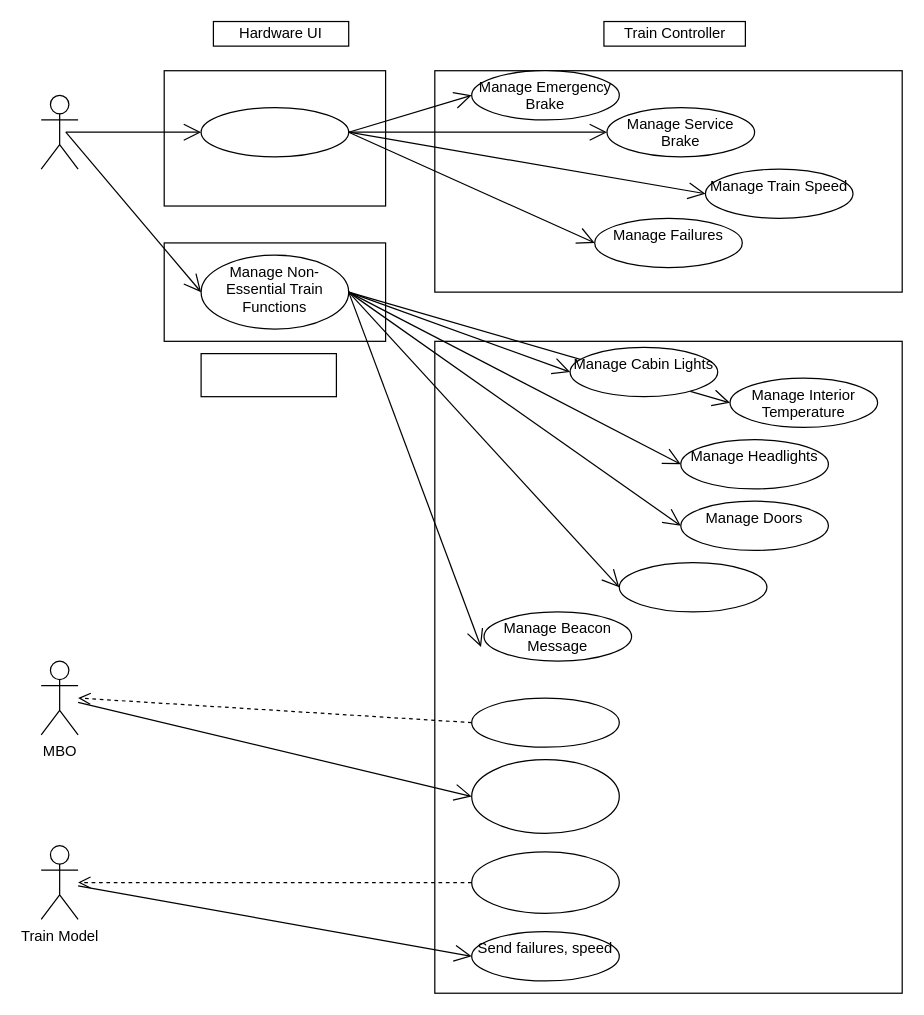
This 924x1015 diagram has some shape labels left out. The centre of each missing label's shape, as x and y in pixels:
Communication with Software UI: (268,374)
Driver: (59,131)
Manage Announcements: (692,586)
Manage Essential Train Functions: (274,131)
Receive Train Location: (544,722)
Receive train temp, power, doors, brakes, arrival: (544,882)
Send schedule, suggested speed, authority: (544,795)
